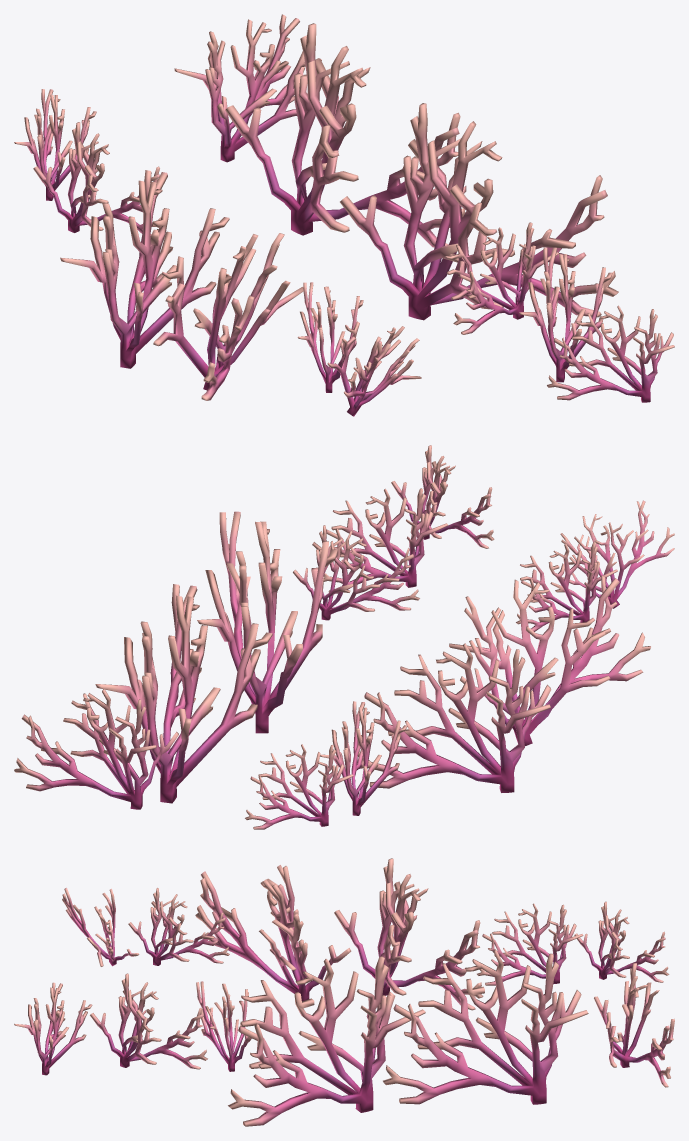
File: stageObject_15.fbx
3 renders of one model, top to bottom at view 1: azimuth 30°, elevation 25°; view 2: azimuth 150°, elevation 25°; view 3: azimuth 270°, elevation 25°, orthographic. The views are drawn at different scales.
Parts seen in each view (by area): view 1: sango7_4; view 2: sango7_4; view 3: sango7_4.
Boxes of the visible parts, x1,y1,x2,y2 form: sango7_4: [14, 14, 674, 416]; sango7_4: [14, 445, 674, 829]; sango7_4: [14, 858, 674, 1126].
Size of the model in its own units: 426 by 185 by 682.
1 material, 1 textured.
